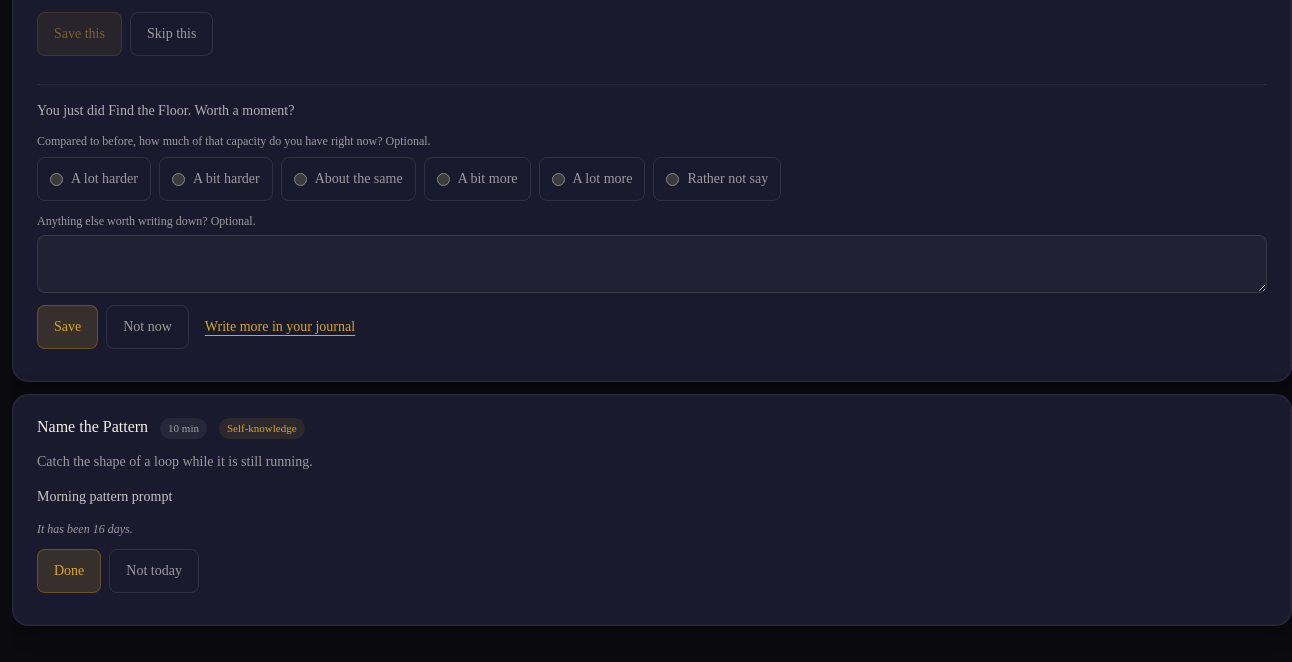
Test: DailyProtocol refused saves › keeps the retry line for a failure worth retrying
(page scrolled)
Click the button "Save".
click(68, 327)  # box [37, 305, 98, 349]
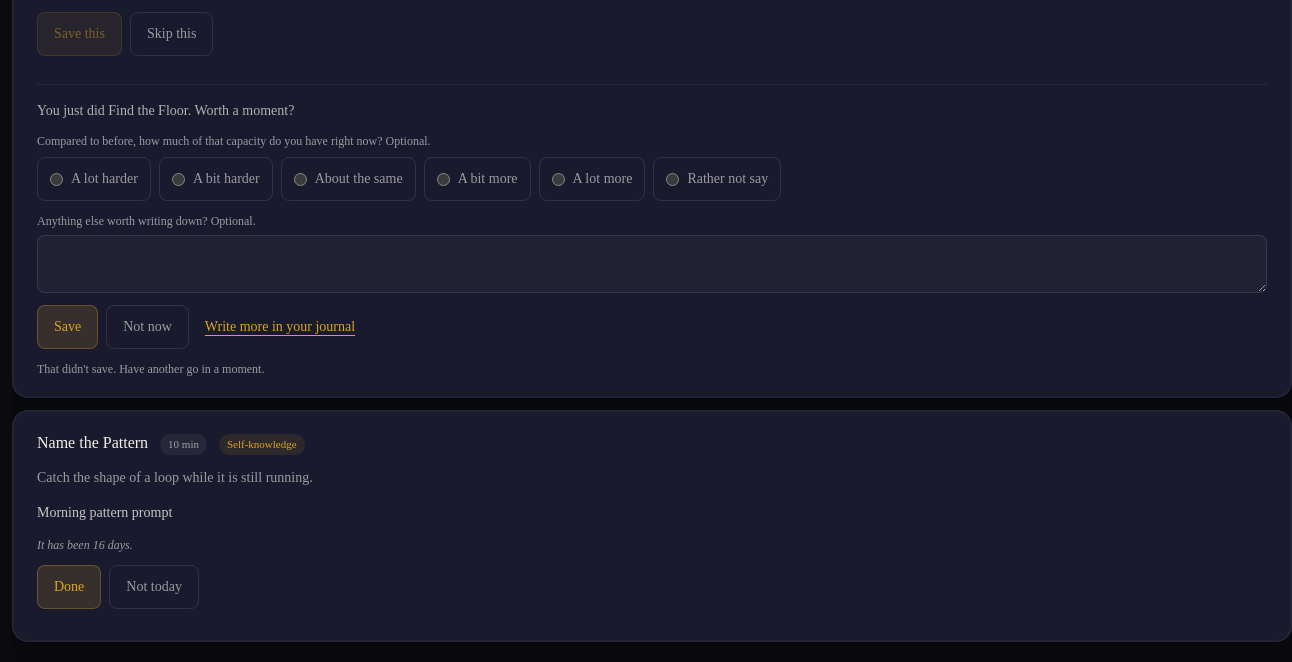
Check: the text "That didn't save. Have another go in a moment." is shown, box [37, 362, 264, 376]
